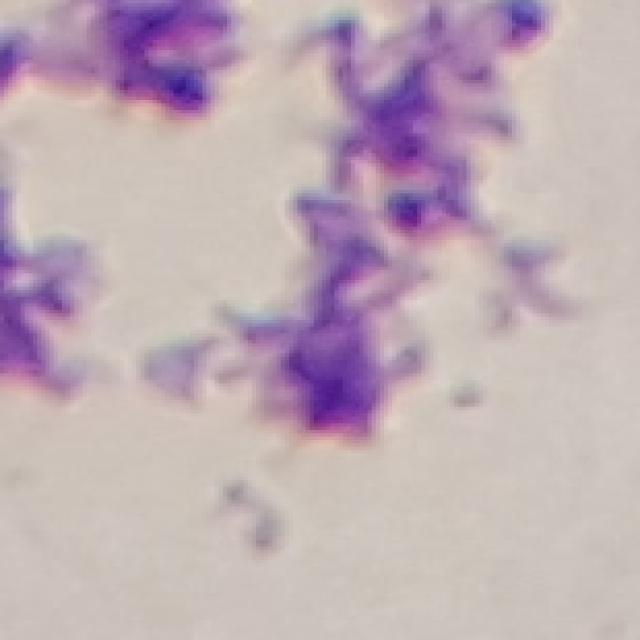non-sperm: (239, 1, 553, 440), (0, 0, 244, 117)
